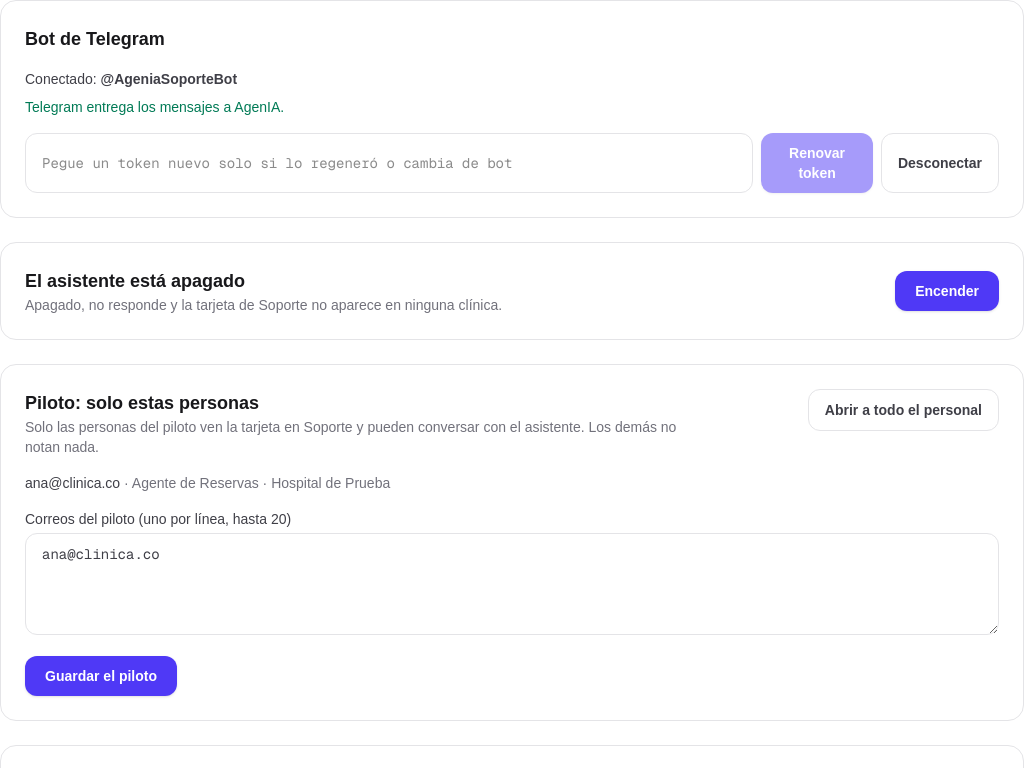
SoporteBotClient › 🧪 el piloto › un correo que no es del personal: el error de la API se muestra
Click the button "Guardar el piloto".
click(101, 676)  # box [25,656,177,696]
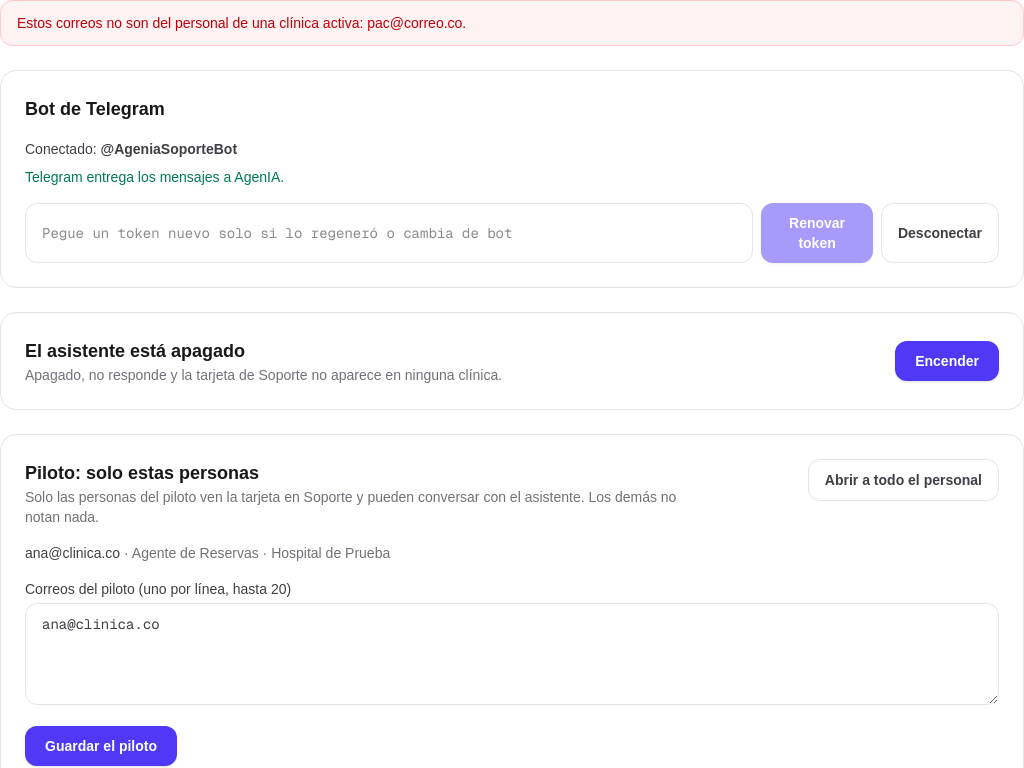
Expected: the message shows "pac@correo.co", [17,15,466,31]
